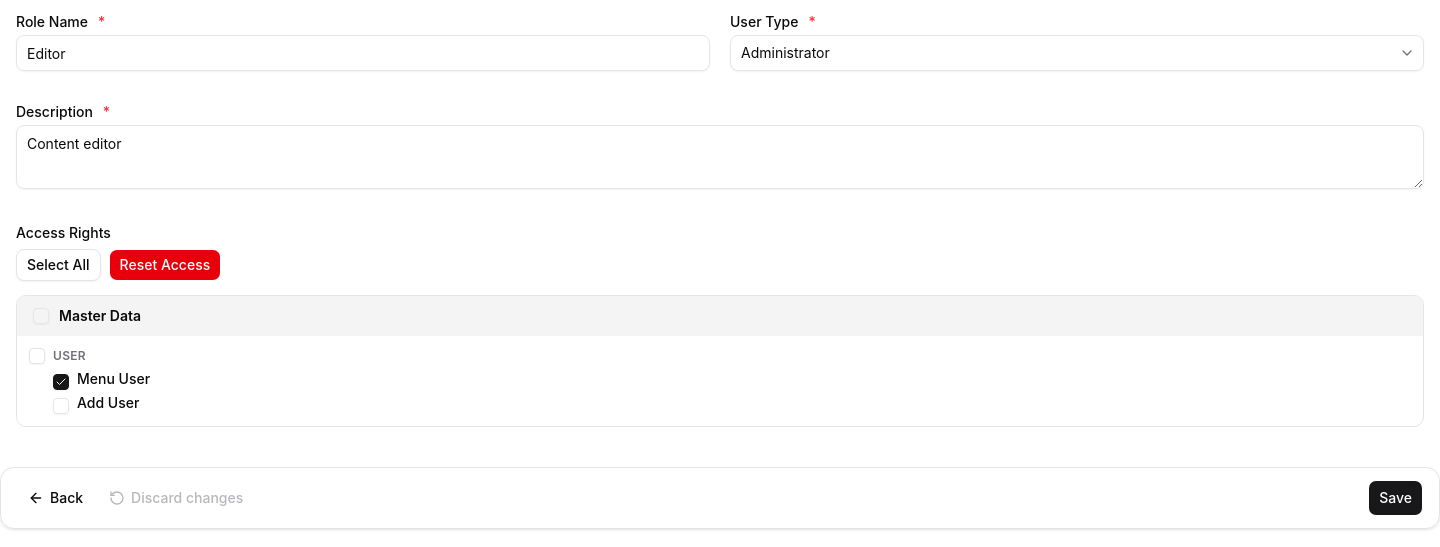
Test: RoleForm — action bar › edit › treats an access-only tick as a change; ticking back leaves the form clean
Expected: the button "Discard changes" is disabled, [98,480,254,516]
Click the checkbox named "Add User" next to "Add User": (61, 406) [53,398,69,414]
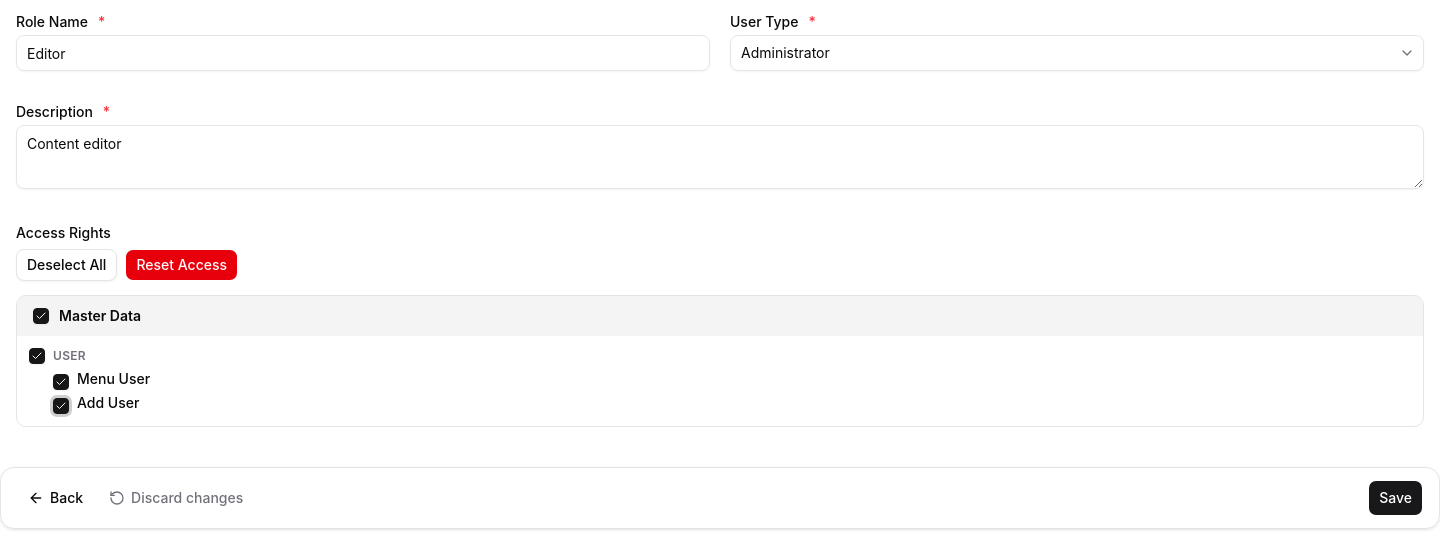
Expected: the button "Discard changes" is enabled, [98,480,254,516]
Click the checkbox named "Add User" next to "Add User": (61, 406) [53,398,69,414]
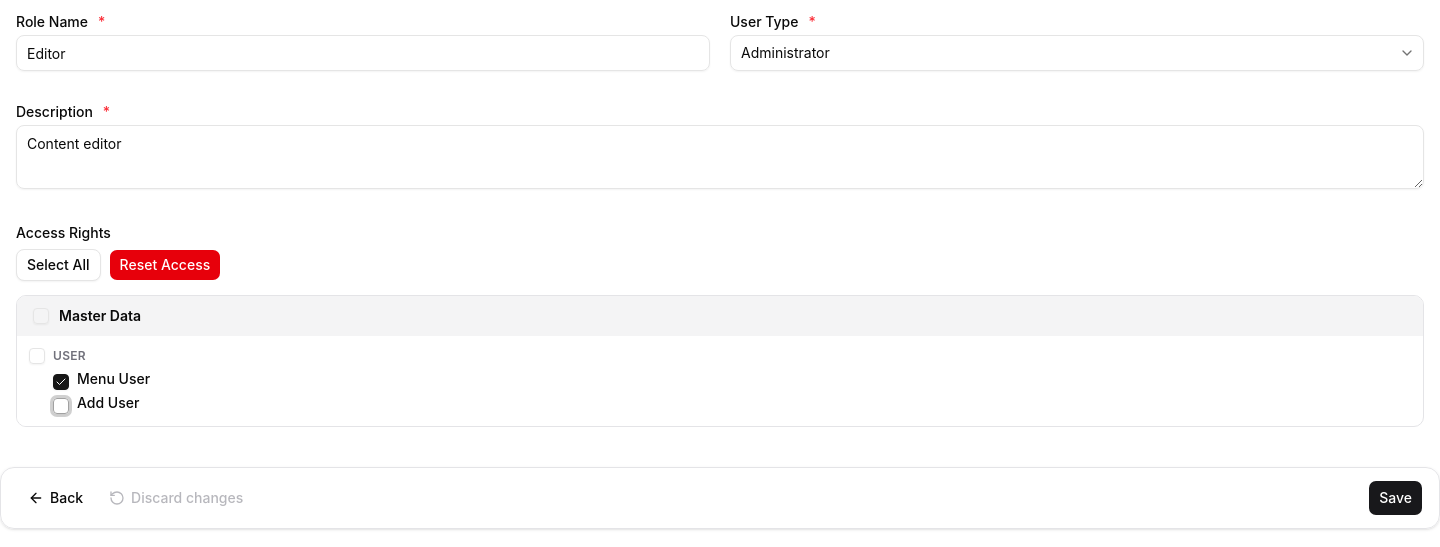
Expected: the button "Discard changes" is disabled, [98,480,254,516]
